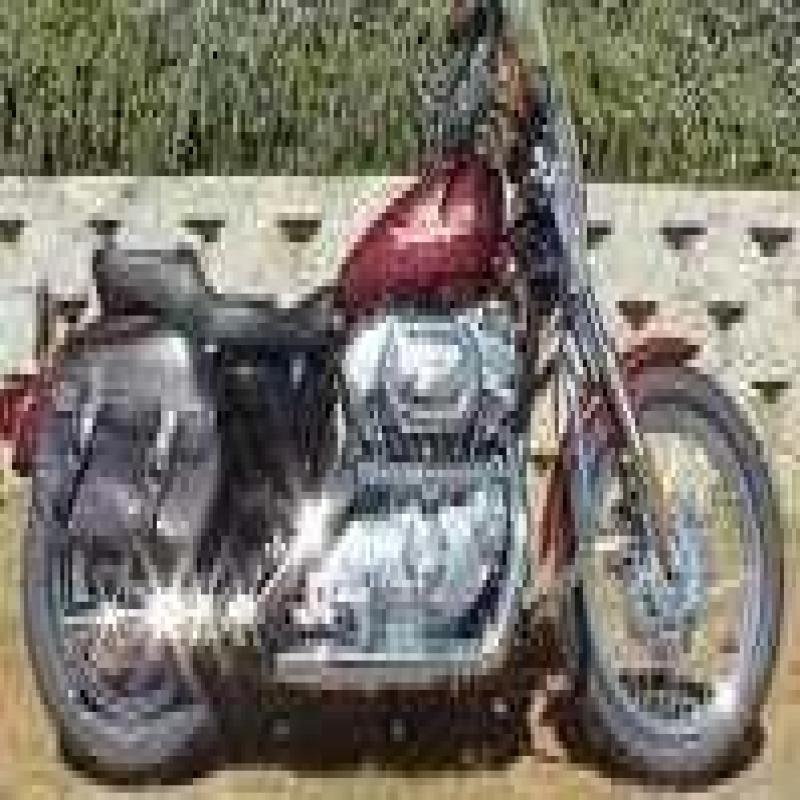bike: (22, 0, 753, 763)
